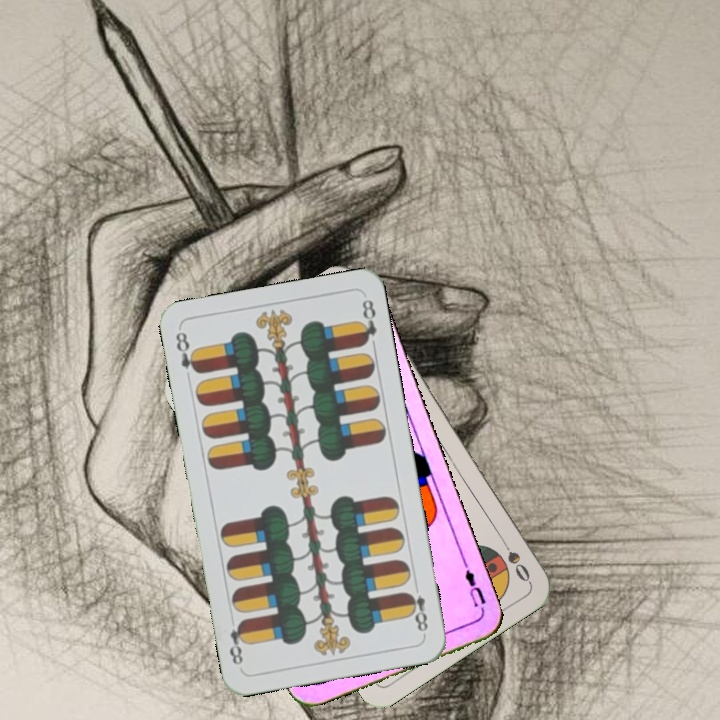E8: (403, 578, 431, 637), (171, 327, 202, 377)
EU: (460, 558, 489, 616)
SO: (495, 531, 533, 585)
